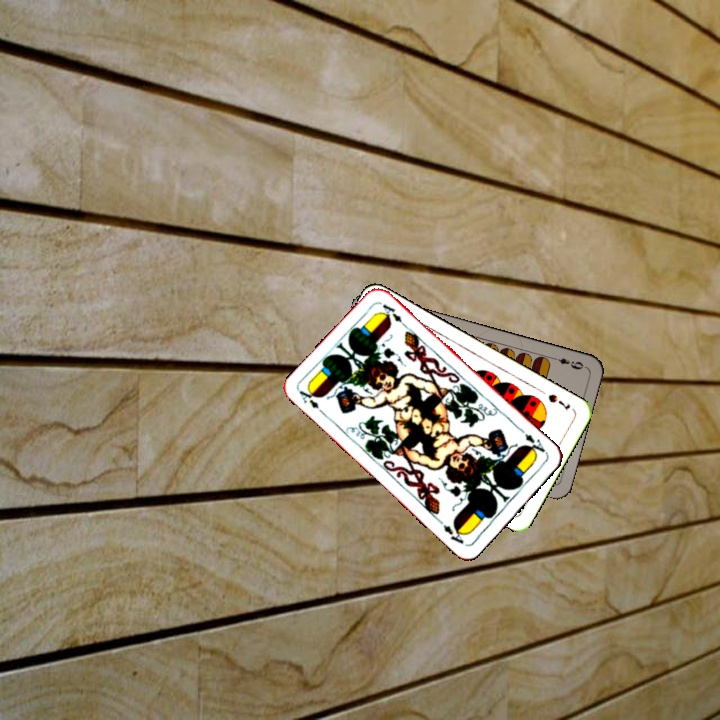E9: (548, 353, 586, 372)
EA: (295, 384, 328, 418), (521, 429, 550, 458)
S7: (544, 390, 573, 413)
